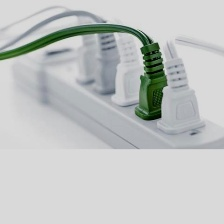three_eye_plug: (7, 32, 223, 154)
